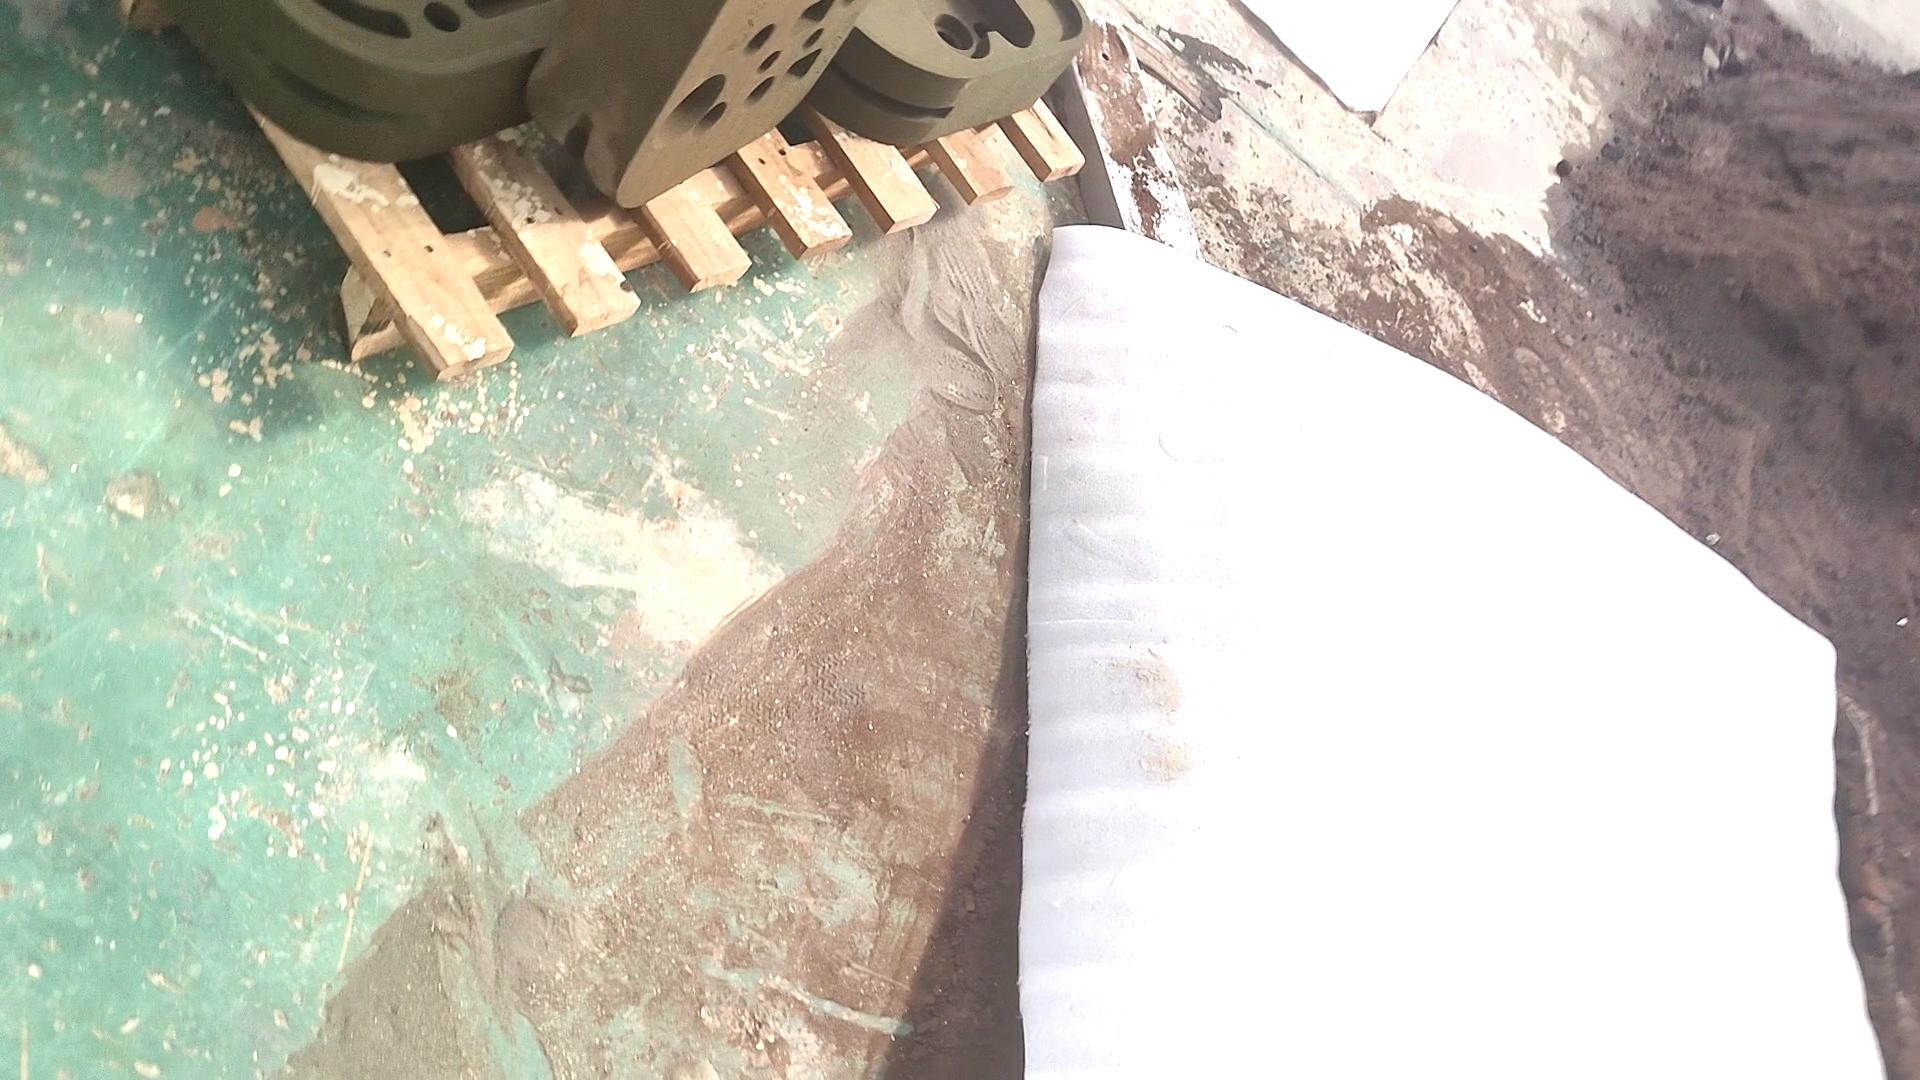pouring hole: (651, 73, 724, 138)
